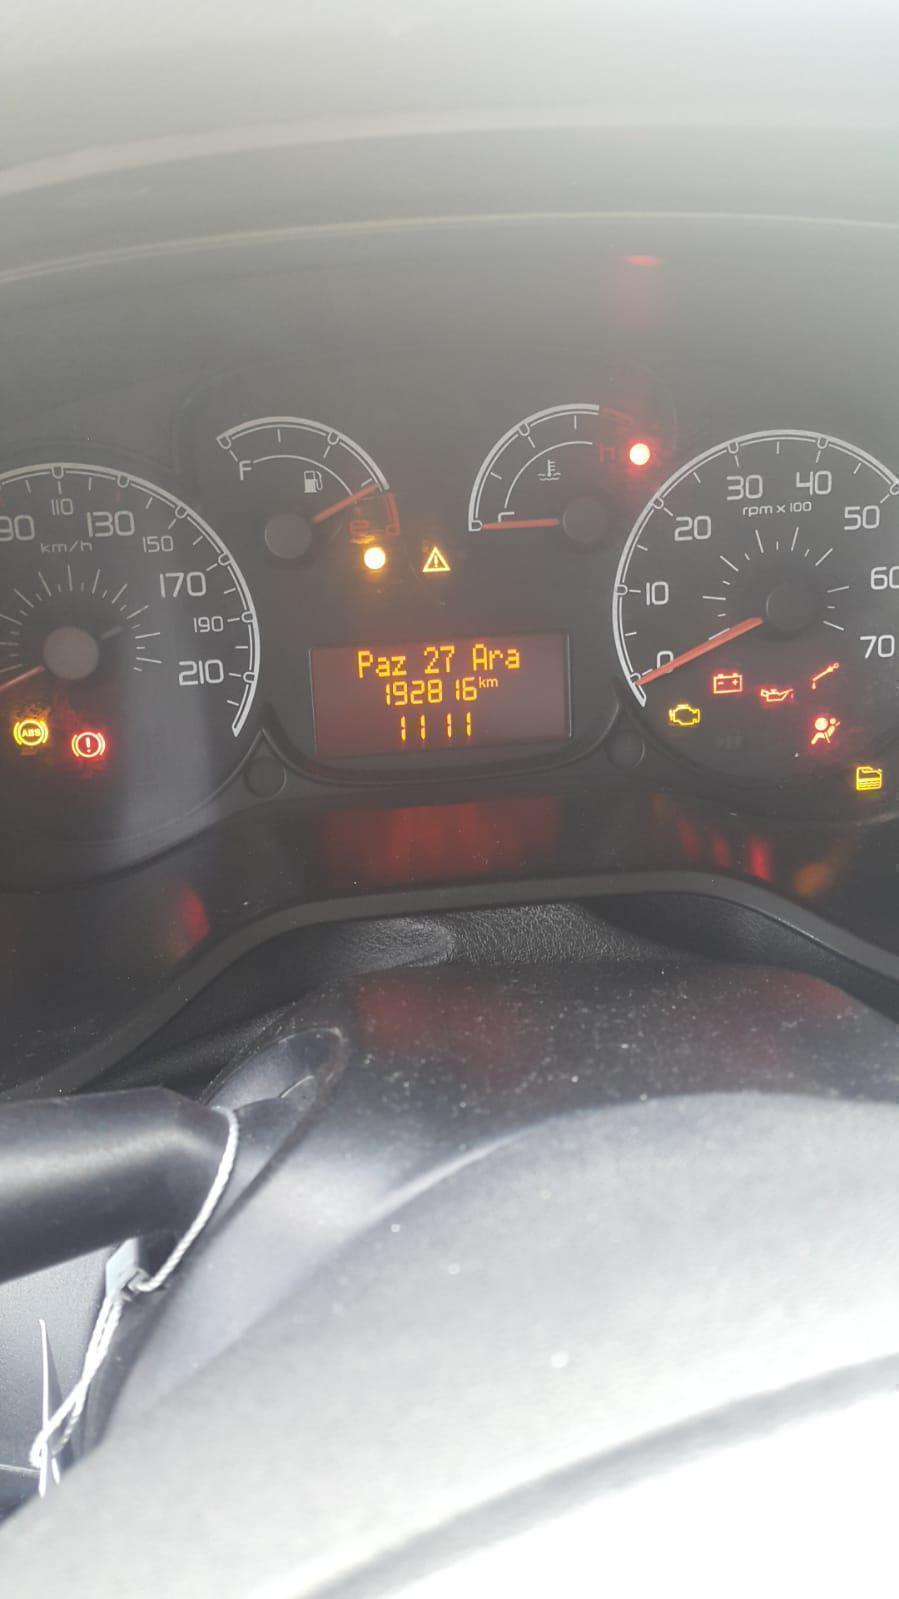1: (397, 712, 411, 742), (443, 712, 453, 741), (383, 682, 392, 709), (419, 712, 427, 742), (465, 711, 472, 738), (454, 678, 461, 701)
2: (422, 646, 439, 675), (411, 678, 424, 704)
6: (462, 675, 477, 701)
7: (439, 642, 456, 672)
8: (427, 677, 443, 705)
9: (392, 680, 408, 705)
X: (356, 648, 374, 679), (471, 642, 488, 670), (391, 655, 407, 677), (505, 648, 521, 669), (375, 655, 391, 677), (488, 649, 504, 669), (486, 677, 499, 687), (477, 675, 487, 687)
odometer: (304, 635, 571, 746)
